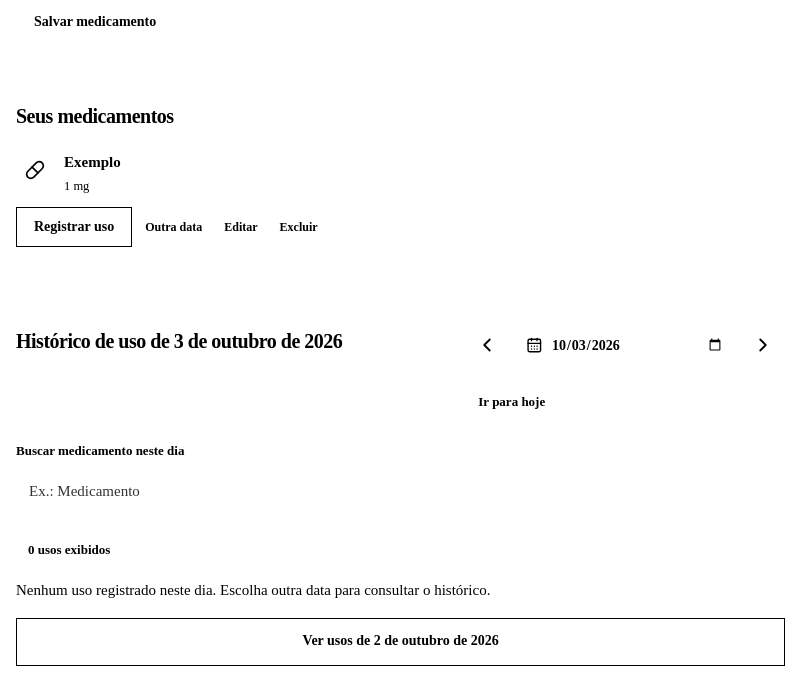
atalho experimental no histórico vazio de medicamentos › não oferece o atalho durante uma busca sem resultado
The image size is (802, 683).
(page scrolled)
In the search field labelled "Buscar medicamento neste dia": (401, 492) [16,468,785,516], type "outro"
(page scrolled)
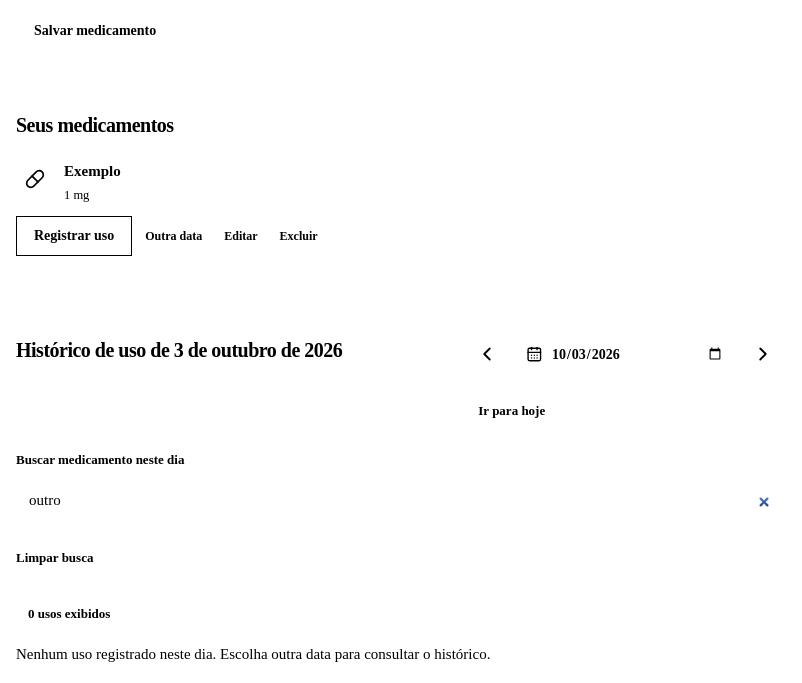
Result: the button "Ver usos de" is gone
